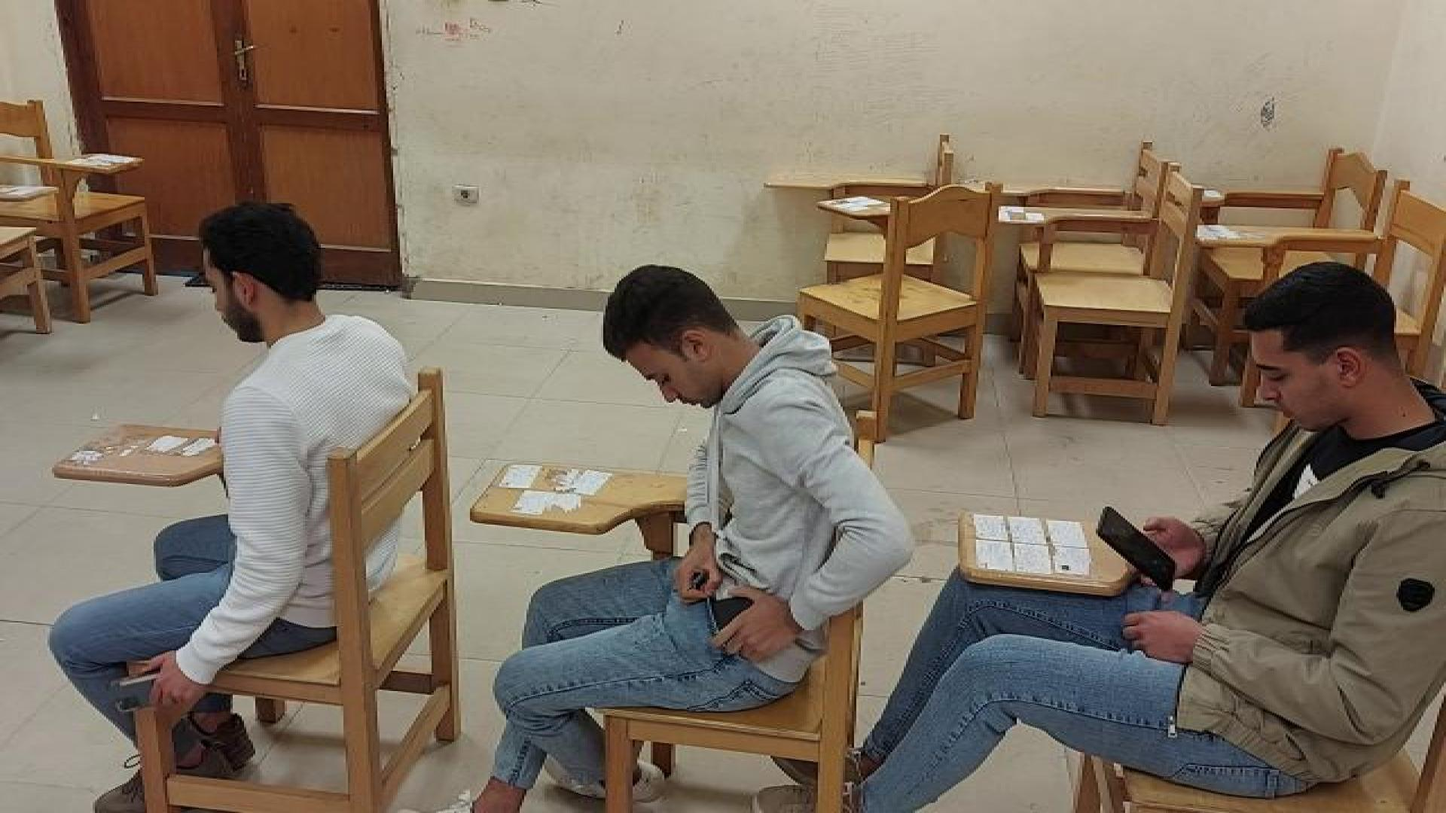phone: (1095, 502, 1190, 599), (105, 673, 175, 719)
